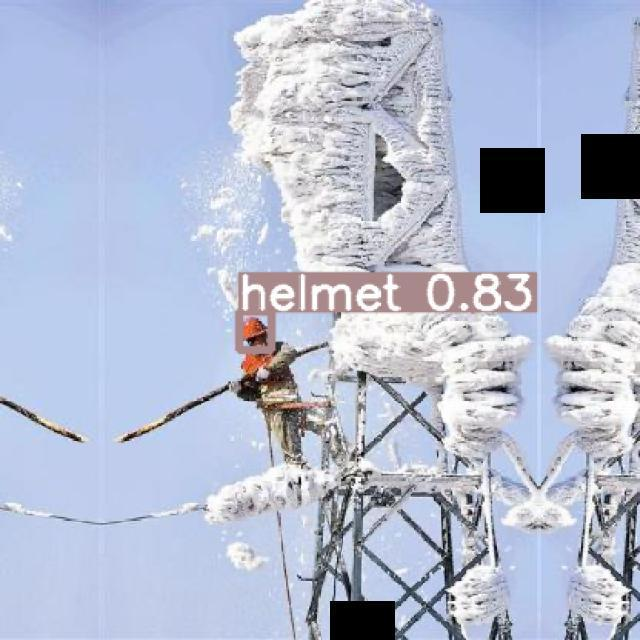red helmet: (240, 317, 269, 345)
